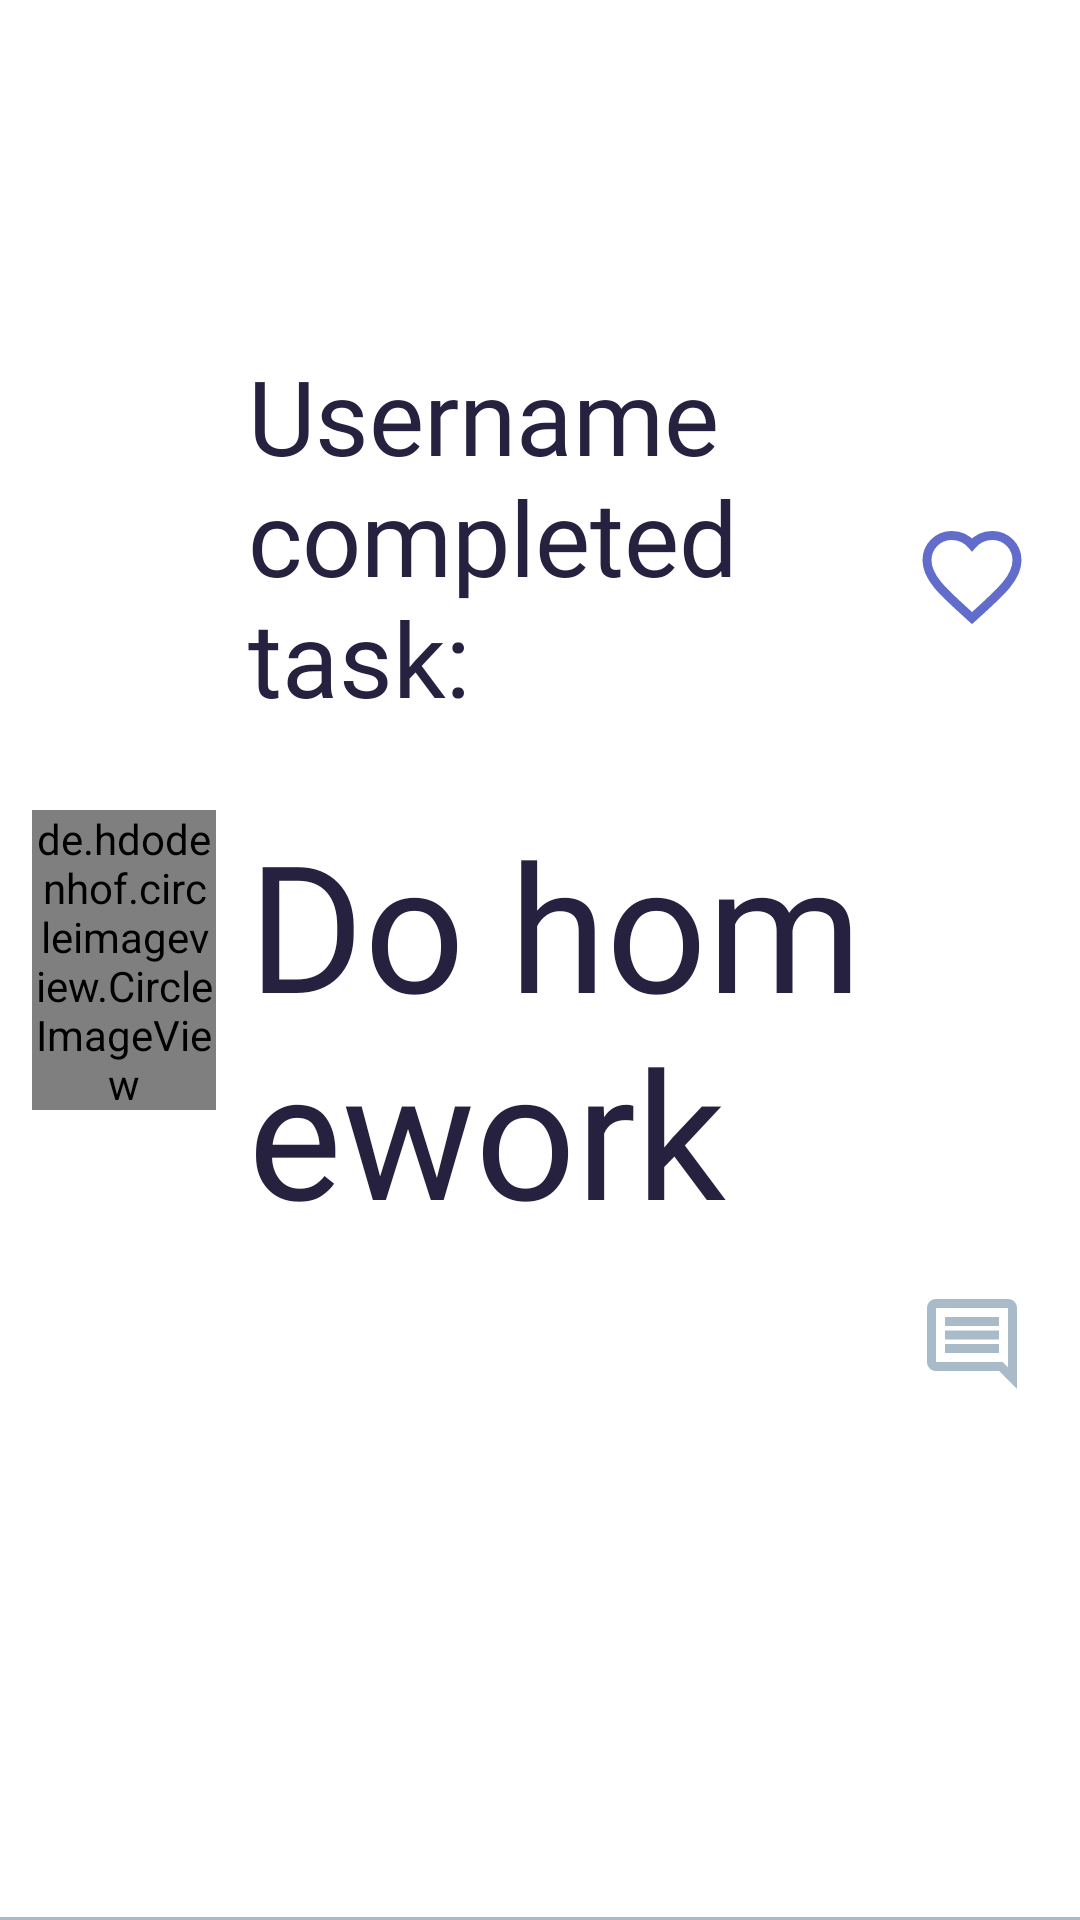

Point at icon controls on the screen. Image size 1080w x 1920h, points as [x,y].
comment: [972,1344]
like: [972,577]
